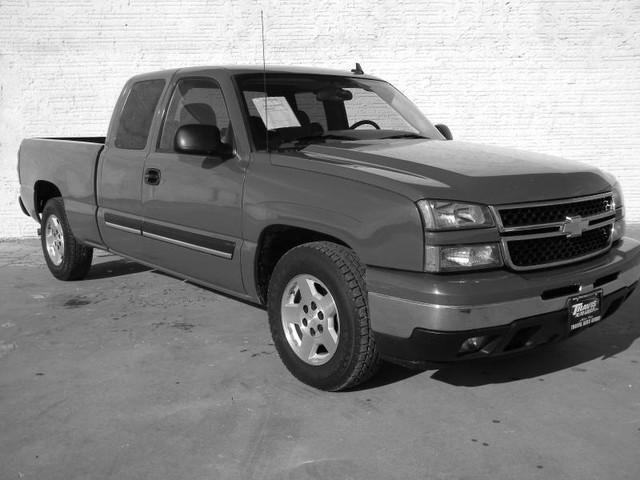car: (18, 63, 639, 396)
